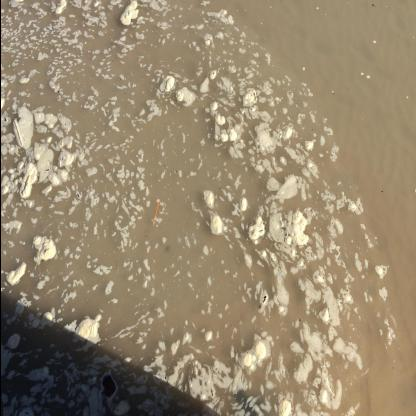plastik: (152, 201, 158, 226)
